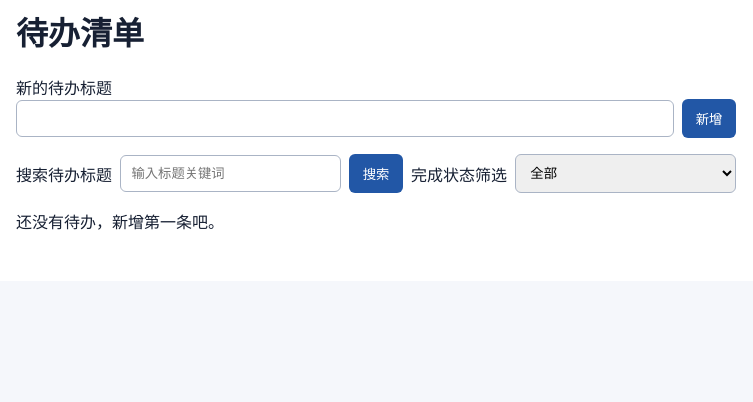
Test: TodoPage › 提交关键词并切换状态后显示服务器返回的组合结果
Expected: the text "还没有待办，新增第一条吧。" is shown, [16, 211, 224, 233]
Type "采购" into the search field labelled "搜索待办标题" at (231, 174), box [120, 155, 341, 192]
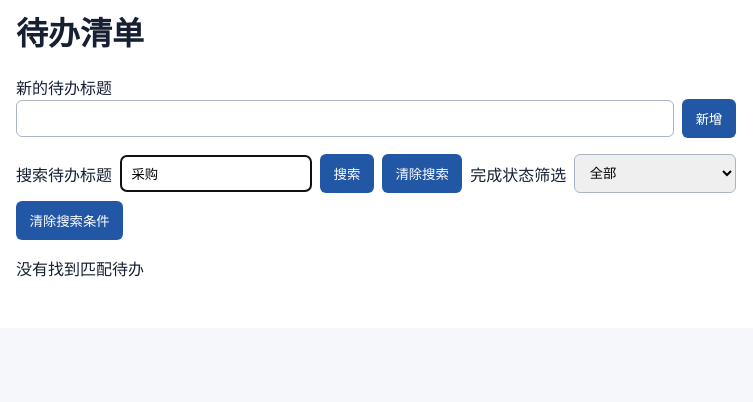
Click the button "搜索" at (347, 174), box [320, 154, 374, 193]
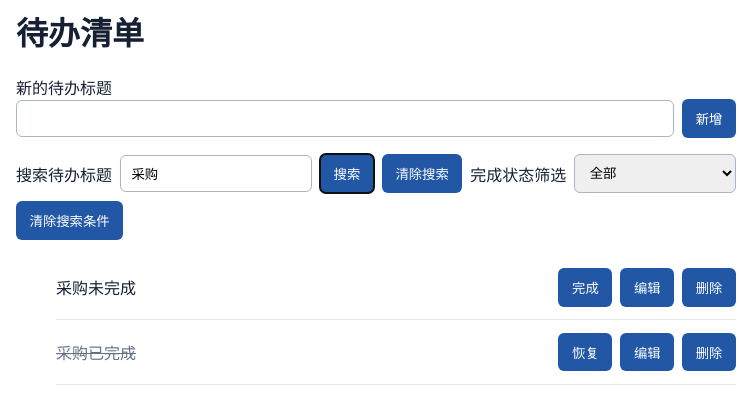
Select "未完成" in the dropdown labelled "完成状态筛选" at (655, 174), box [574, 154, 736, 193]
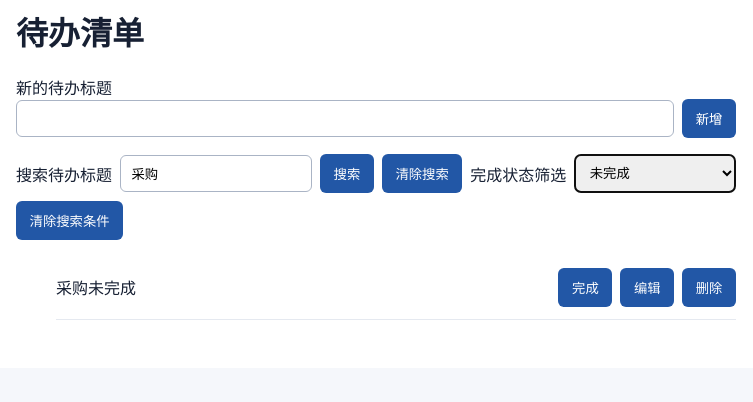
Result: the text "采购已完成" is gone
